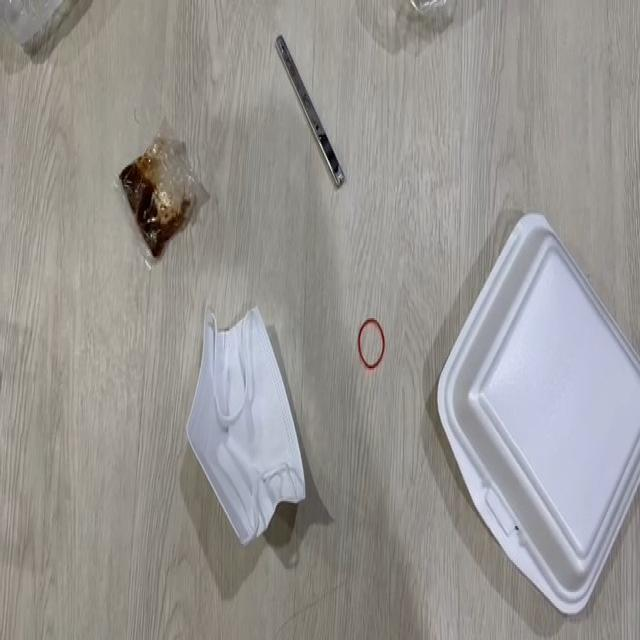Anorganik: (426, 206, 640, 611), (252, 28, 351, 192), (353, 314, 393, 374)
B3: (155, 297, 315, 555), (109, 109, 211, 273)
